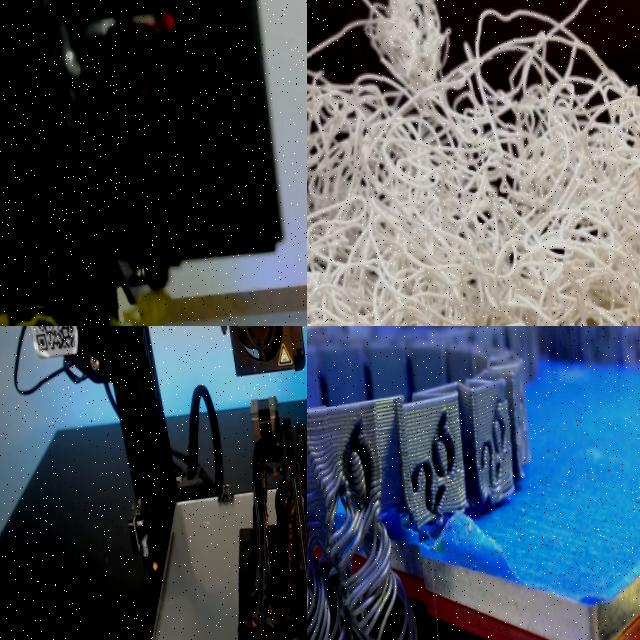spaghetti: (307, 0, 640, 326), (307, 397, 440, 640), (110, 287, 170, 326)
